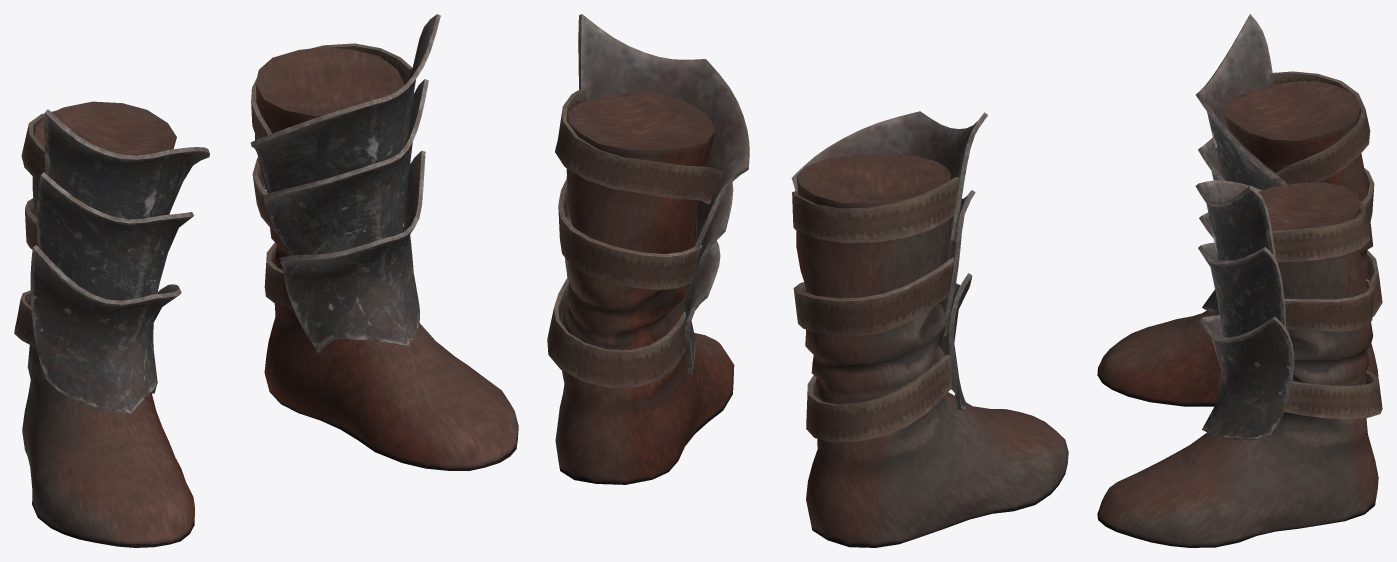
File: sk_dg_uruk_boots_heavy_e.fbx
The picture shows the model from 3 angles, left to right: view 1: azimuth 30°, elevation 25°; view 2: azimuth 150°, elevation 25°; view 3: azimuth 270°, elevation 25°; orthographic projection. The views are drawn at different scales.
Parts seen in each view (by area): view 1: sk_dg_uruk_boots_heavy_e.0, sk_dg_uruk_boots_heavy_e.1; view 2: sk_dg_uruk_boots_heavy_e.0, sk_dg_uruk_boots_heavy_e.1; view 3: sk_dg_uruk_boots_heavy_e.0, sk_dg_uruk_boots_heavy_e.1.
Boxes of the visible parts, box(x1,y1,x2,y2) form: sk_dg_uruk_boots_heavy_e.0: box(22, 14, 518, 547); sk_dg_uruk_boots_heavy_e.1: box(14, 43, 412, 347); sk_dg_uruk_boots_heavy_e.0: box(555, 14, 1068, 547); sk_dg_uruk_boots_heavy_e.1: box(547, 86, 959, 442); sk_dg_uruk_boots_heavy_e.0: box(1097, 14, 1378, 547); sk_dg_uruk_boots_heavy_e.1: box(1269, 71, 1382, 419).
Size of the model in its own units: 0.5637 by 0.3407 by 0.4614.
2 materials, 2 textured.
